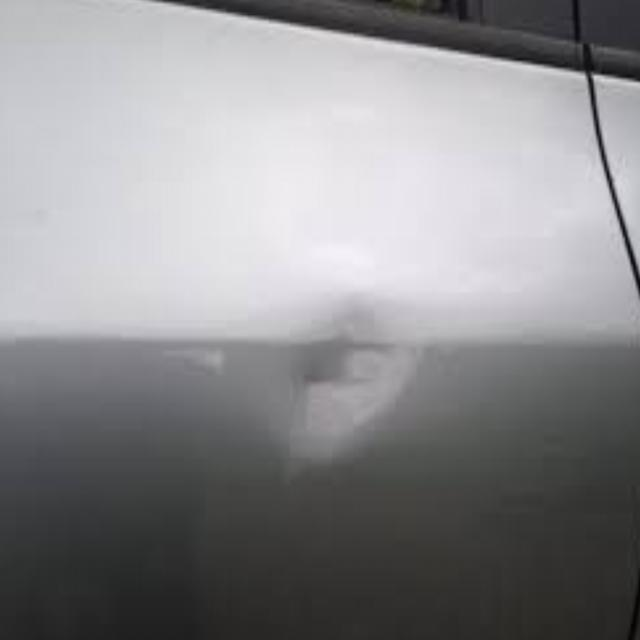dents: (255, 268, 426, 471)
